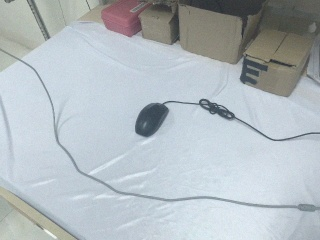box: (178, 1, 267, 65), (240, 29, 313, 97), (99, 1, 153, 39), (140, 2, 181, 46)
mouse: (134, 102, 169, 138)
